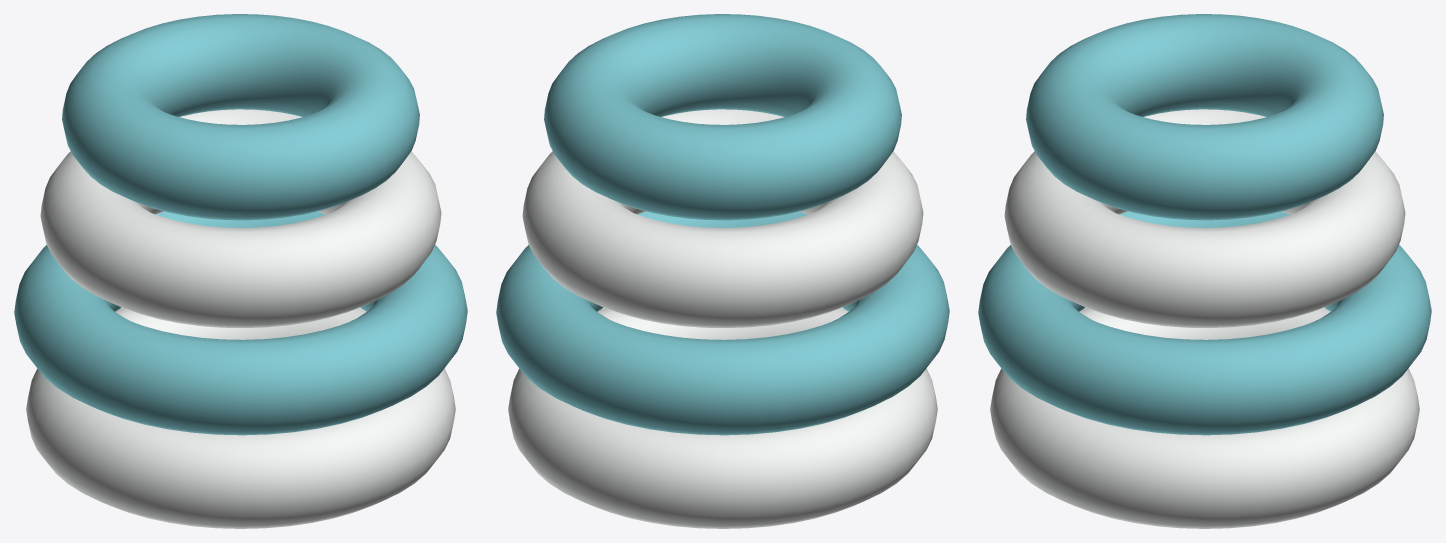
The model's file is demo-sculpture.glb.
3 renders of one model, left to right at view 1: azimuth 30°, elevation 25°; view 2: azimuth 150°, elevation 25°; view 3: azimuth 270°, elevation 25°, orthographic.
Visible parts, largest first — view 1: fixture-layer-4, fixture-layer-2, fixture-layer-3, fixture-layer-1; view 2: fixture-layer-4, fixture-layer-2, fixture-layer-3, fixture-layer-1; view 3: fixture-layer-4, fixture-layer-2, fixture-layer-3, fixture-layer-1.
Part boxes in pixels (x1,y1,x2,y2): fixture-layer-4: (62,14,419,220); fixture-layer-2: (14,211,467,435); fixture-layer-3: (40,109,441,328); fixture-layer-1: (26,308,455,528); fixture-layer-4: (544,14,901,220); fixture-layer-2: (496,211,949,435); fixture-layer-3: (522,109,923,328); fixture-layer-1: (508,308,937,528); fixture-layer-4: (1026,14,1383,220); fixture-layer-2: (978,211,1431,435); fixture-layer-3: (1004,109,1405,328); fixture-layer-1: (990,308,1419,528).
Size of the model in its own units: 1.9 by 1.76 by 1.9.
